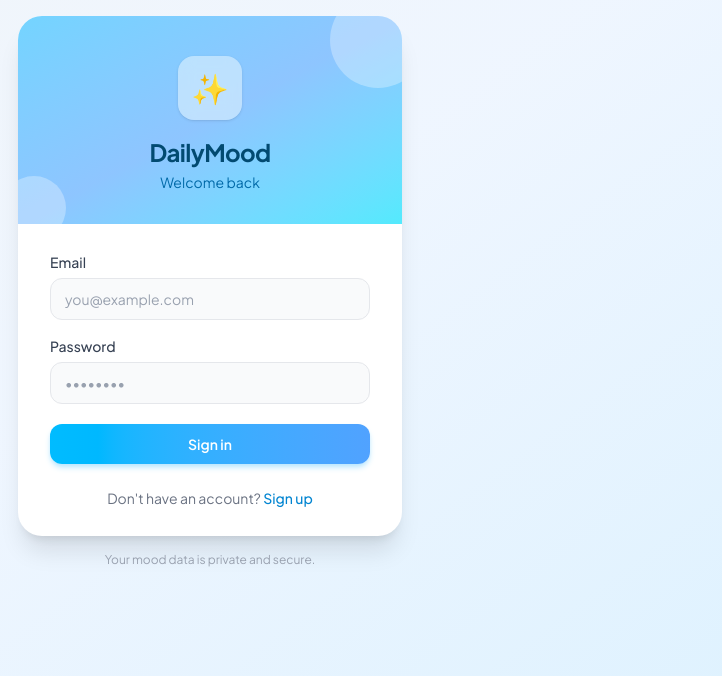
Test case: LoginPage (integration) › toggles back to sign-in mode from sign-up mode
Click the button "Sign up". click: point(288, 498)
box: [263, 488, 313, 508]
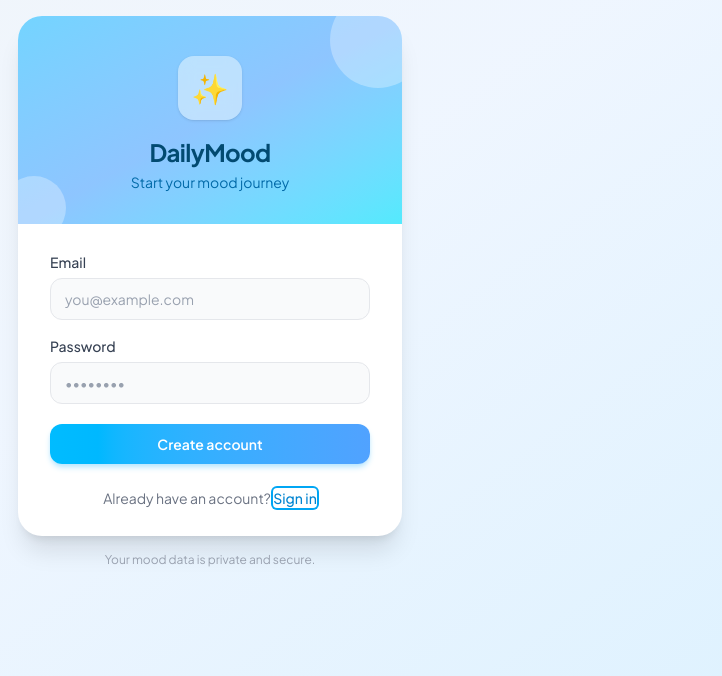
Click the button "Sign in". click: point(295, 498)
box: [273, 488, 317, 508]
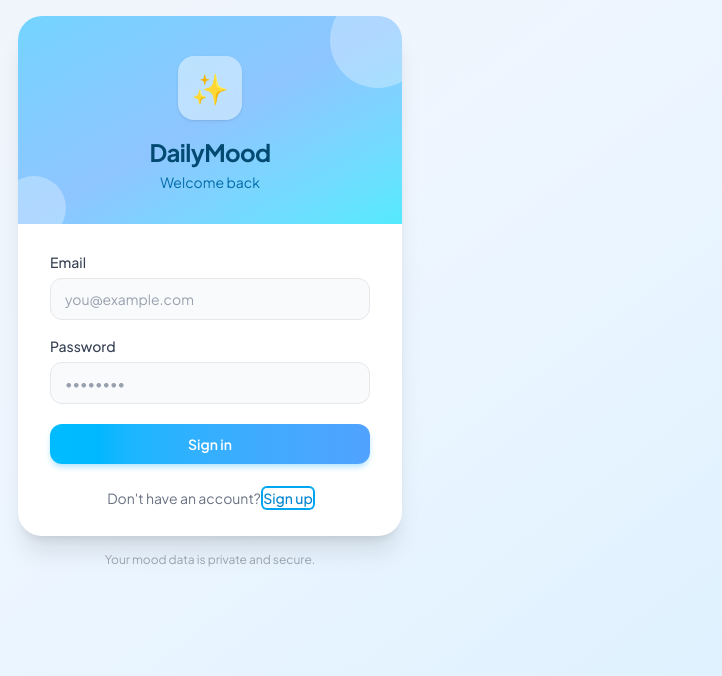
expect the text "Welcome back" is shown: met, box [160, 173, 260, 191]
